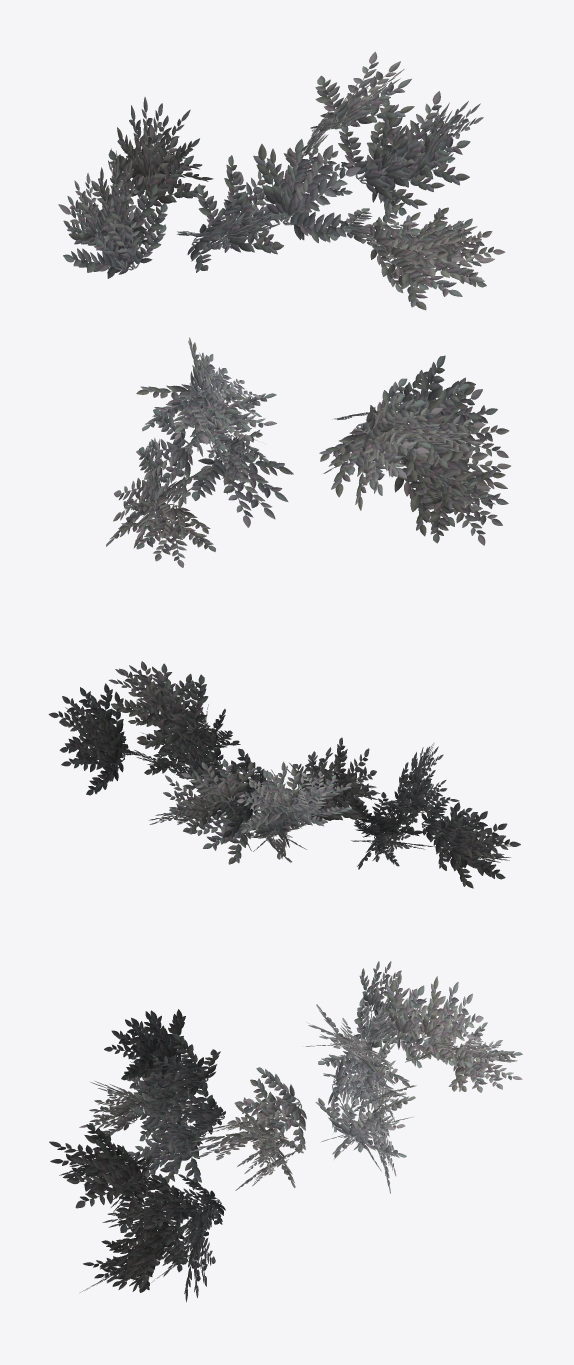
The model's file is jungle_giant_l1.gltf.
3 renders of one model, top to bottom at view 1: azimuth 30°, elevation 25°; view 2: azimuth 150°, elevation 25°; view 3: azimuth 270°, elevation 25°, orthographic. The views are drawn at different scales.
Parts seen in each view (by area): view 1: jungle_giant_l1; view 2: jungle_giant_l1; view 3: jungle_giant_l1.
Boxes of the visible parts, left/top/right/bottom form: jungle_giant_l1: left=58, top=51, right=510, bottom=567; jungle_giant_l1: left=48, top=661, right=520, bottom=888; jungle_giant_l1: left=49, top=961, right=522, bottom=1302.
Bounding box in the file's own units: 19.69 × 13.14 × 18.69.
1 material, 1 textured.
